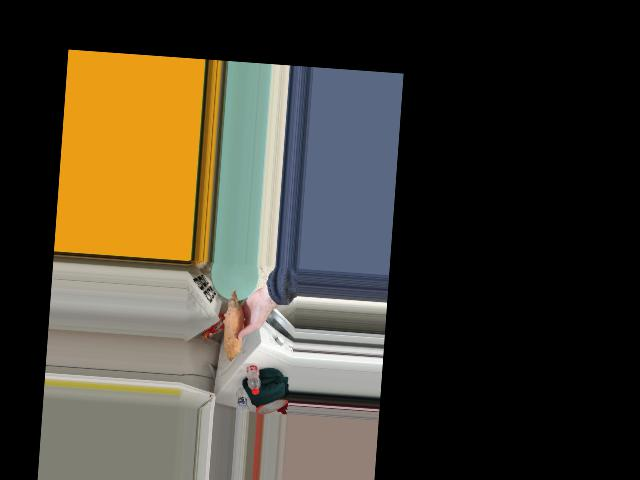sweet_potato: (223, 298, 243, 359)
